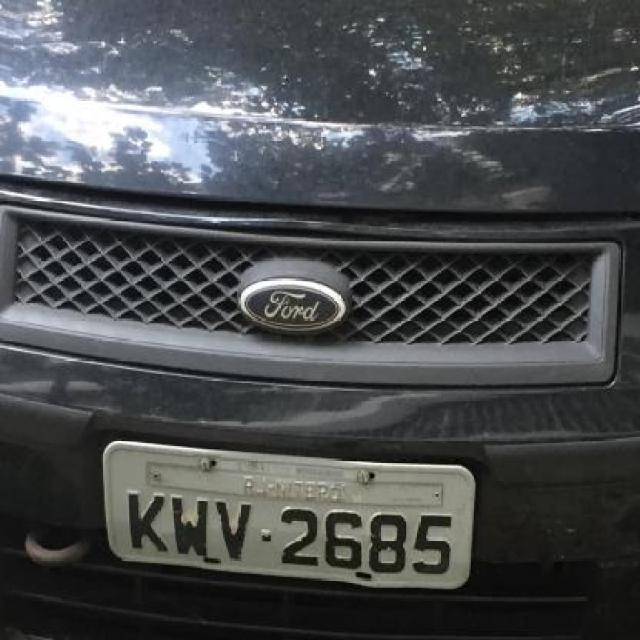old_plate: (92, 432, 485, 595)
